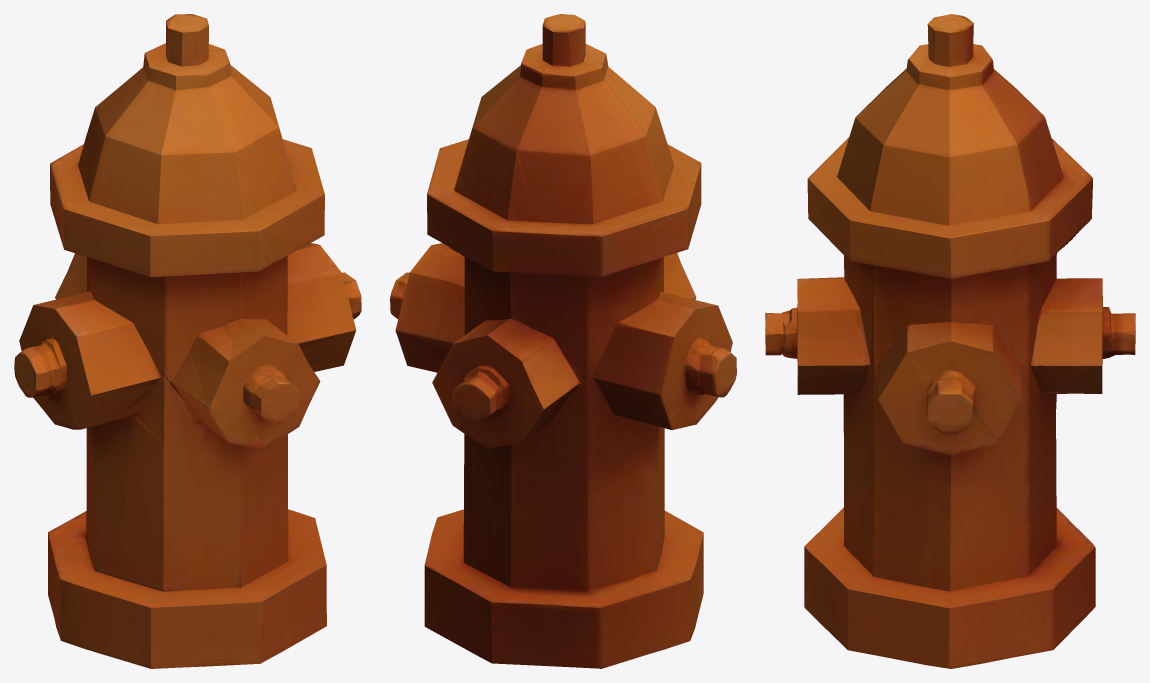
Rendered from prop_hydrant.glb.
3 views of the same model, side by side, from view 1: azimuth 30°, elevation 25°; view 2: azimuth 150°, elevation 25°; view 3: azimuth 270°, elevation 25° (orthographic).
Visible parts, largest first — view 1: groundshift; view 2: groundshift; view 3: groundshift.
Boxes of the visible parts, <box> form: groundshift: <box>14,14,361,668</box>; groundshift: <box>390,14,736,668</box>; groundshift: <box>765,14,1135,668</box>.
Bounding box in the file's own units: 0.4928 × 0.8497 × 0.4882.
1 material, 1 textured.
